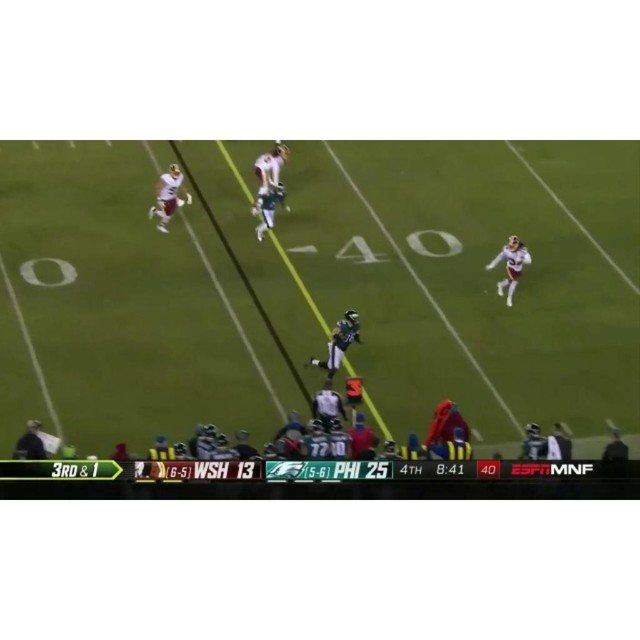american-football-player: (306, 310, 362, 386), (484, 235, 532, 308), (251, 141, 291, 220), (147, 163, 189, 234), (252, 181, 291, 244)
